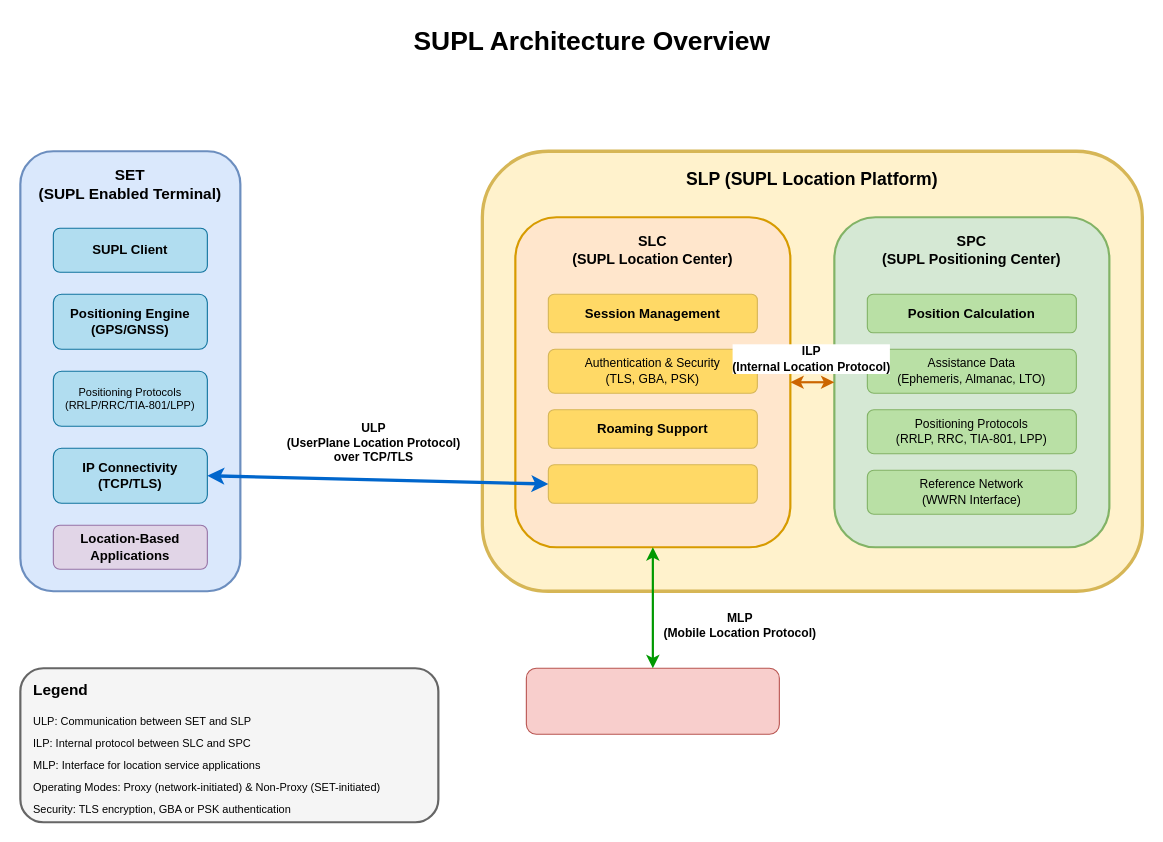
Image size: 1163x842. Some labels were removed from this diagram. Here are the shapes that lost their labels. From the top down, the box of each, then its label:
(547, 464, 757, 503): Client Interface (ULP)
(525, 667, 779, 734): LCS Client (Location Services Applications)
